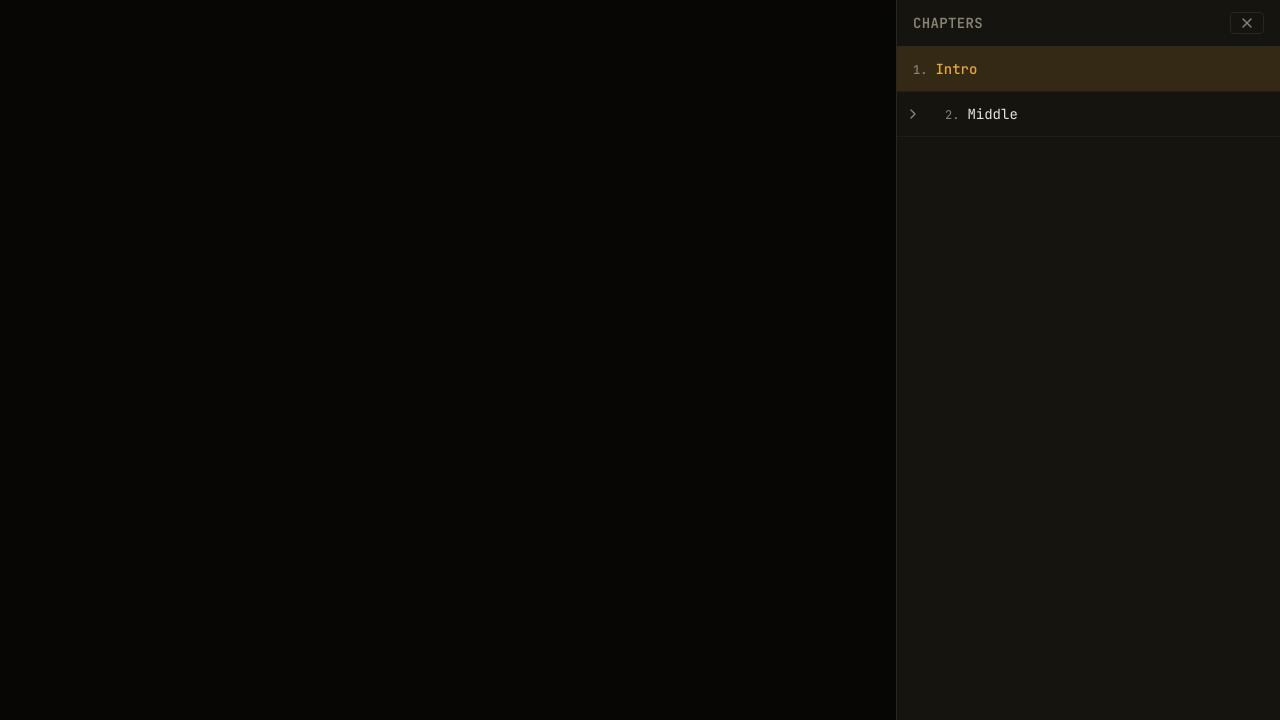
Scenario: Outline — sub-headings › expands sub-headings when the chevron of a collapsed chapter is toggled
Expected: the text "THE STORM" is not shown
Click the button named "Expand Middle". click: coordinates (913, 114)
box: left=897, top=92, right=929, bottom=136
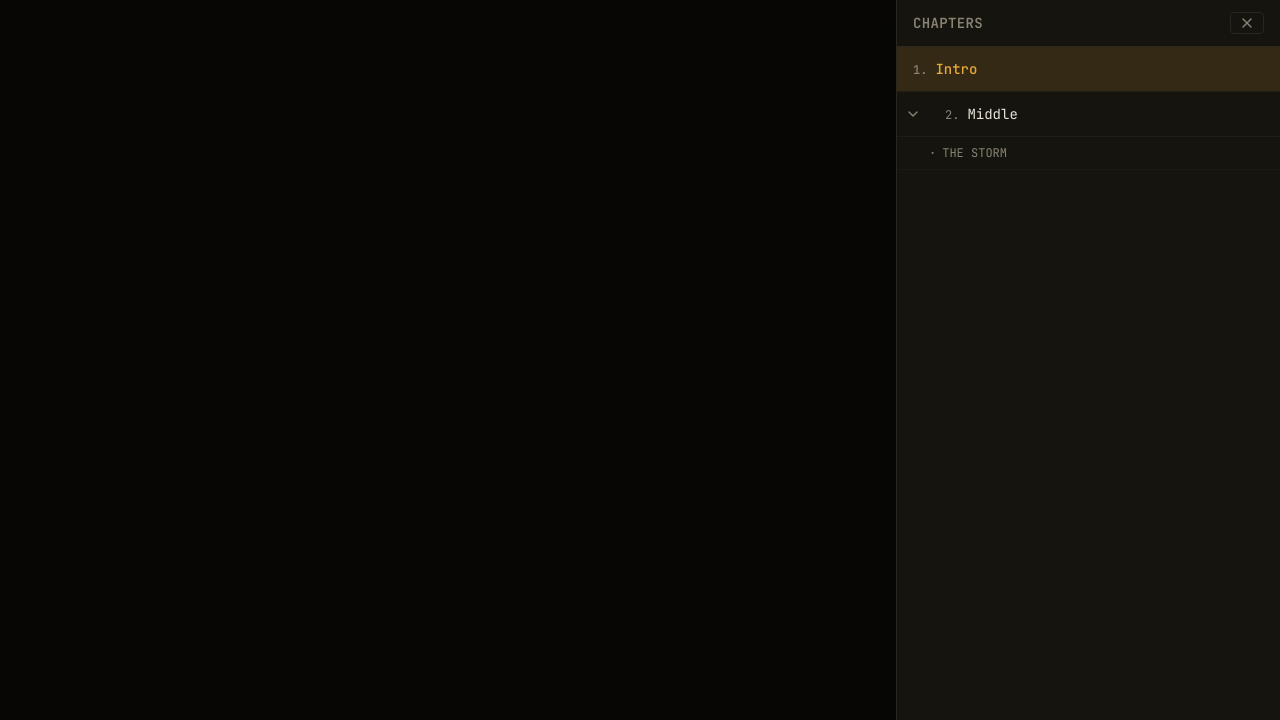
Expected: the button "·THE STORM" is shown, left=897, top=137, right=1279, bottom=170
Expected: the button named "Collapse Middle" is shown, left=897, top=92, right=929, bottom=136
